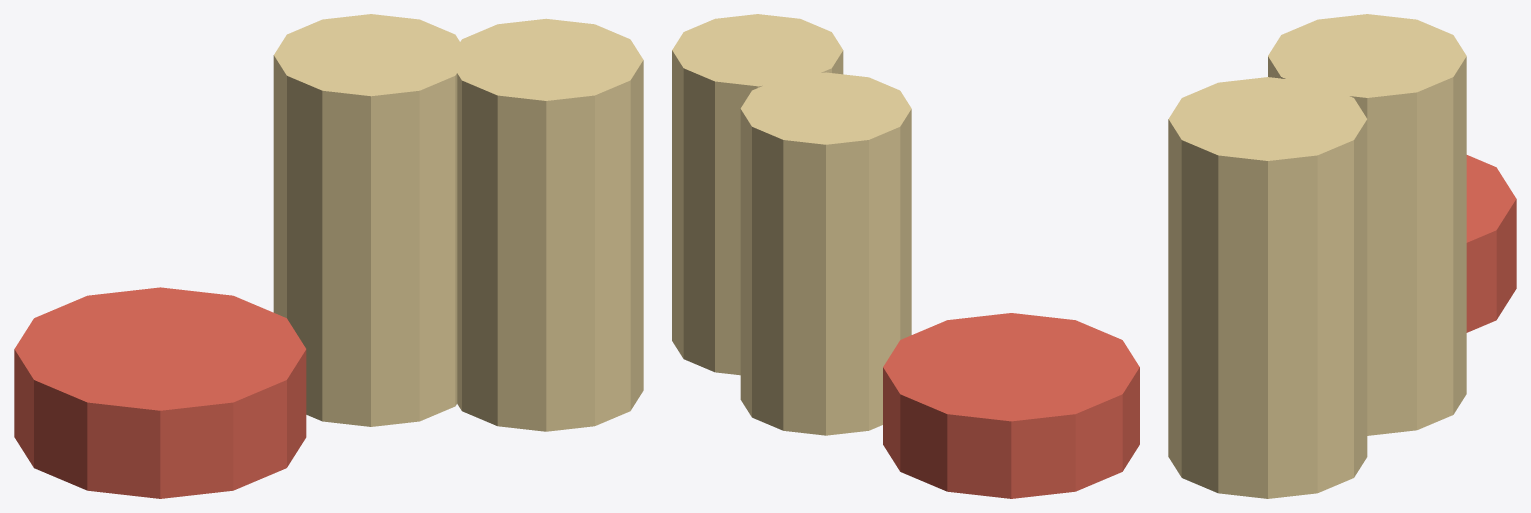
The model's file is spring-roll.glb.
The picture shows the model from 3 angles, left to right: view 1: azimuth 30°, elevation 25°; view 2: azimuth 150°, elevation 25°; view 3: azimuth 270°, elevation 25°; orthographic projection. The views are drawn at different scales.
Size of the model in its own units: 0.26 by 0.15 by 0.14.
